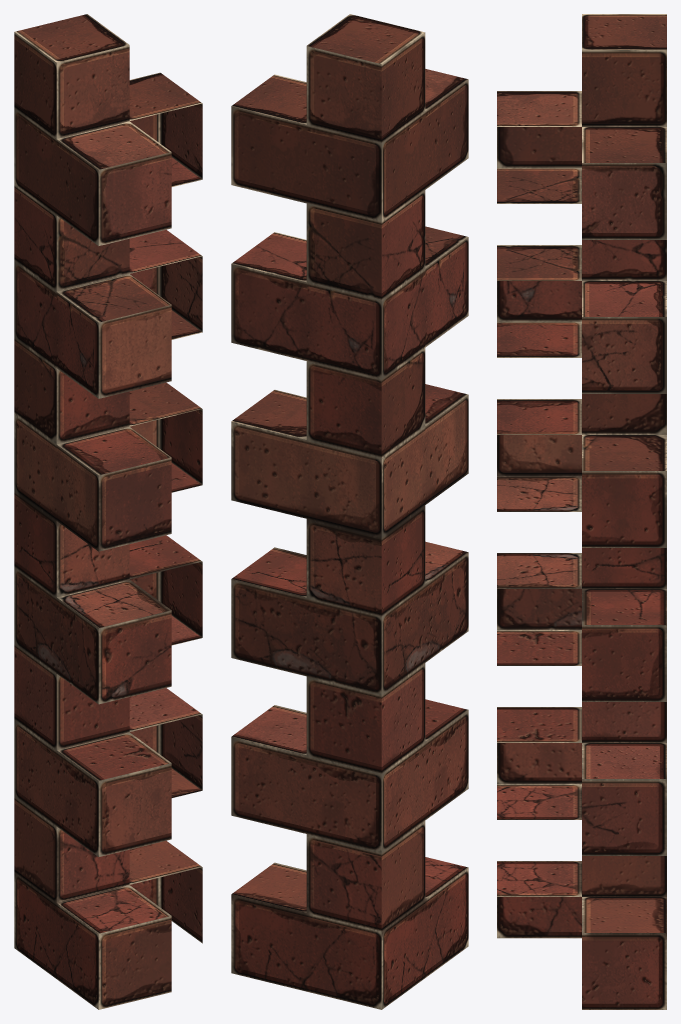
File: pillar04.fbx
3 views of the same model, side by side, from view 1: azimuth 30°, elevation 25°; view 2: azimuth 150°, elevation 25°; view 3: azimuth 270°, elevation 25° (orthographic). The views are drawn at different scales.
Visible parts, largest first — view 1: pillar04; view 2: pillar04; view 3: pillar04.
Part boxes in pixels (x1=…): pillar04: x1=14, y1=14, x2=202, y2=1009; pillar04: x1=231, y1=14, x2=468, y2=1009; pillar04: x1=497, y1=14, x2=666, y2=1009.
Bounding box in the file's own units: 50 × 300 × 50.
